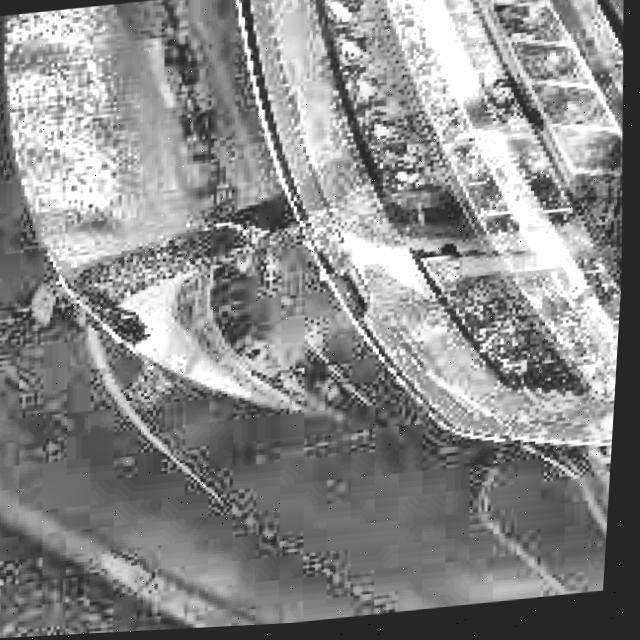tail_lamp: (330, 155, 629, 327)
